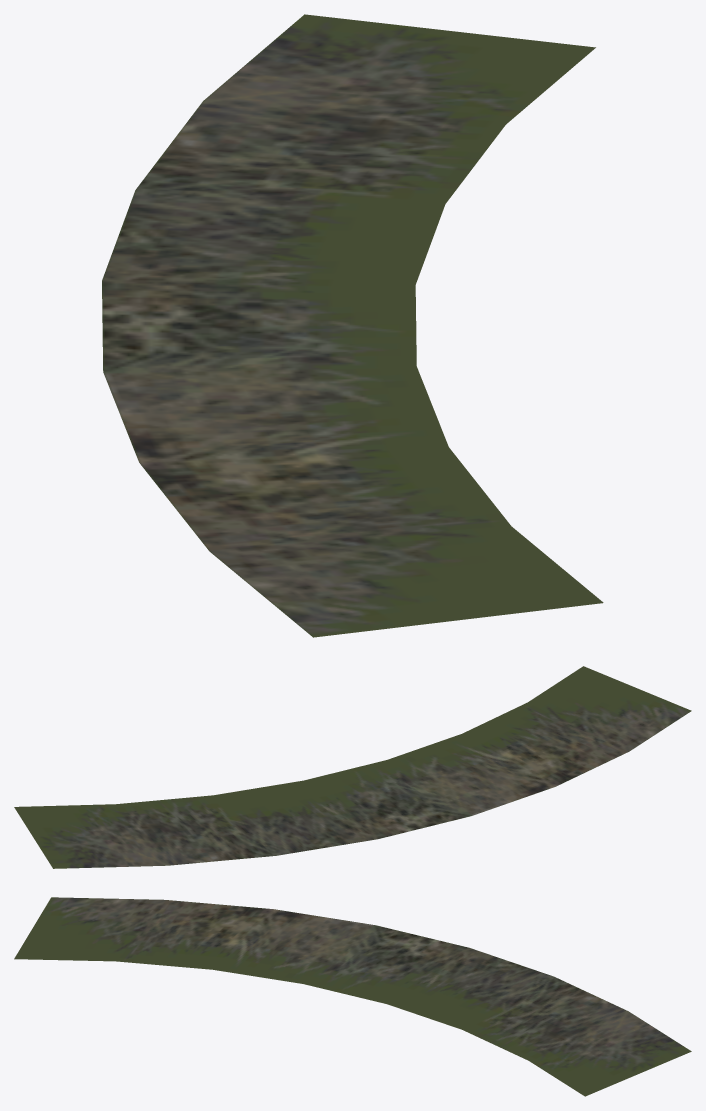
Rendered from Common_OBJ_WaterBush_03 (1).fbx.
The picture shows the model from 3 angles, top to bottom: view 1: azimuth 30°, elevation 25°; view 2: azimuth 150°, elevation 25°; view 3: azimuth 270°, elevation 25°; orthographic projection. The views are drawn at different scales.
Parts seen in each view (by area): view 1: Common_OBJ_WaterBush_03__1_; view 2: Common_OBJ_WaterBush_03__1_; view 3: Common_OBJ_WaterBush_03__1_.
Part boxes in pixels (bbox=[...]): Common_OBJ_WaterBush_03__1_: bbox=[102, 14, 603, 637]; Common_OBJ_WaterBush_03__1_: bbox=[14, 666, 691, 868]; Common_OBJ_WaterBush_03__1_: bbox=[14, 897, 691, 1096].
Bounding box in the file's own units: 243 × 2.33e-06 × 349.
Materials: 1 (1 with a texture image).
